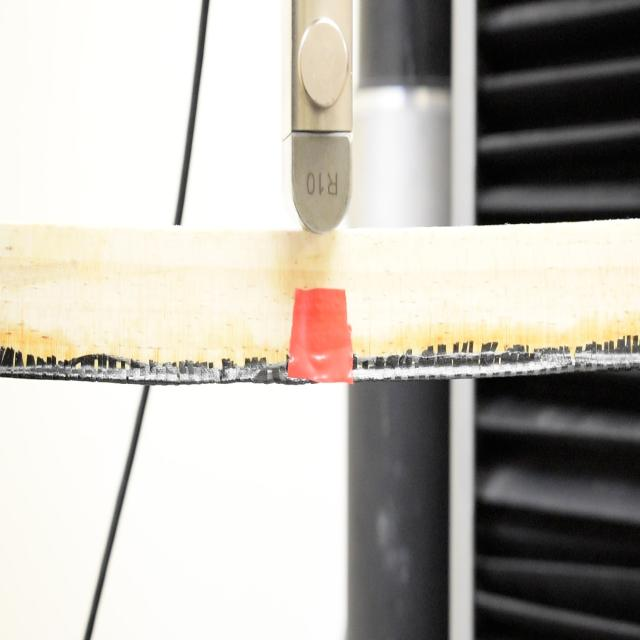wood: (0, 225, 640, 384)
